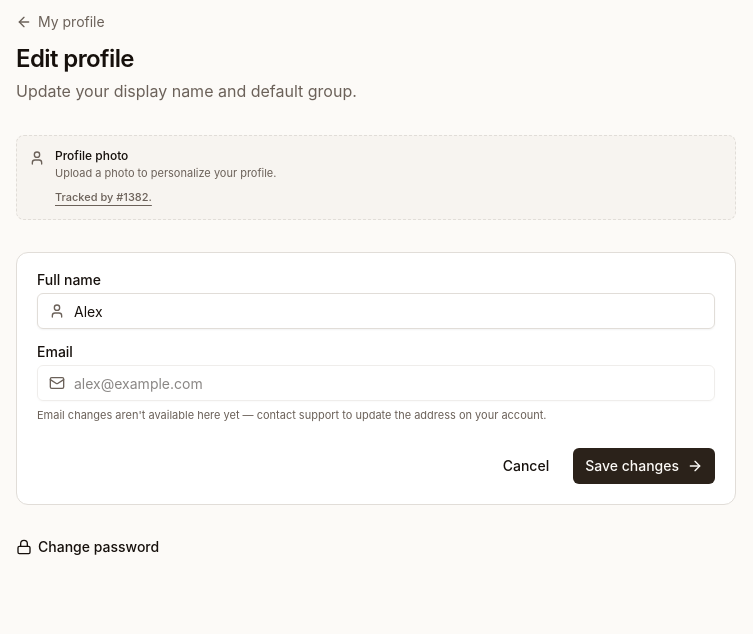
Test: <EditProfilePage /> › submits name + default_group_id and shows the saved-banner inline
Replace the text in the field with test id "profile-name-input" with "Alex 2": (376, 311) left=37, top=293, right=715, bottom=329
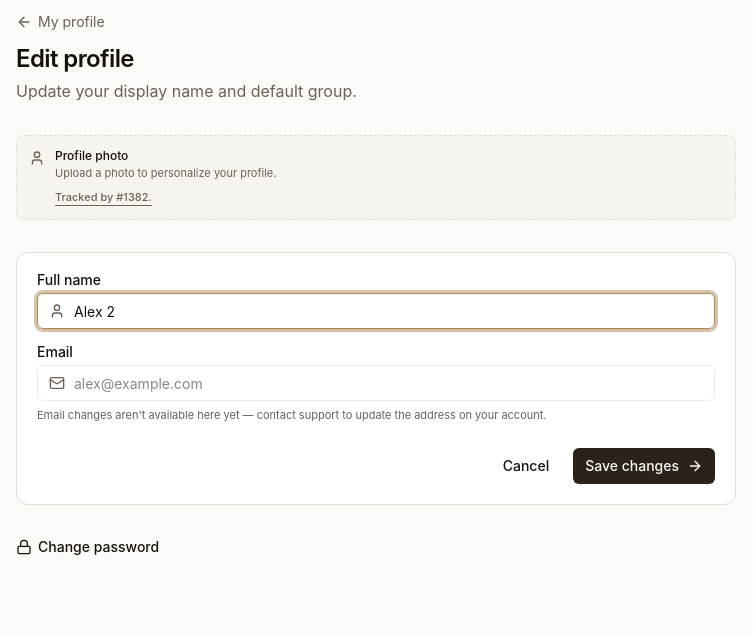
Click the button with test id "profile-save": (644, 466) left=573, top=448, right=715, bottom=484
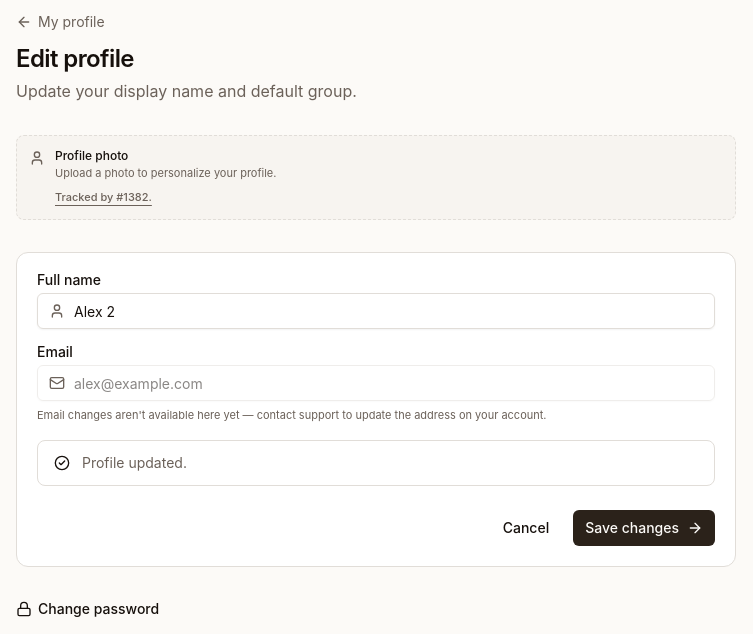
expect the message "Profile updated." is shown: met, box left=37, top=440, right=715, bottom=486
